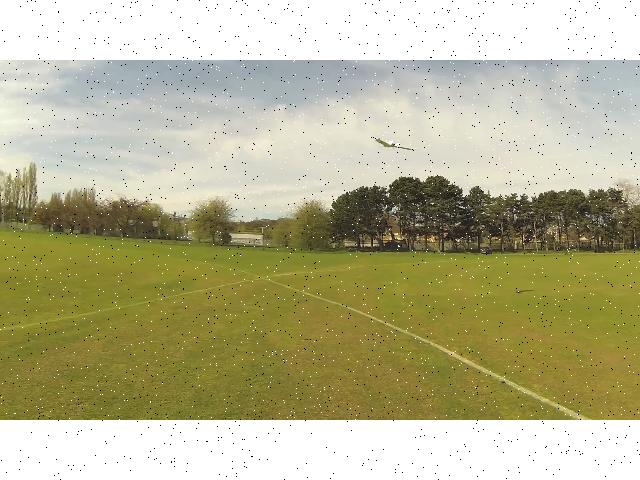Anti-Drone: (370, 134, 422, 158)
